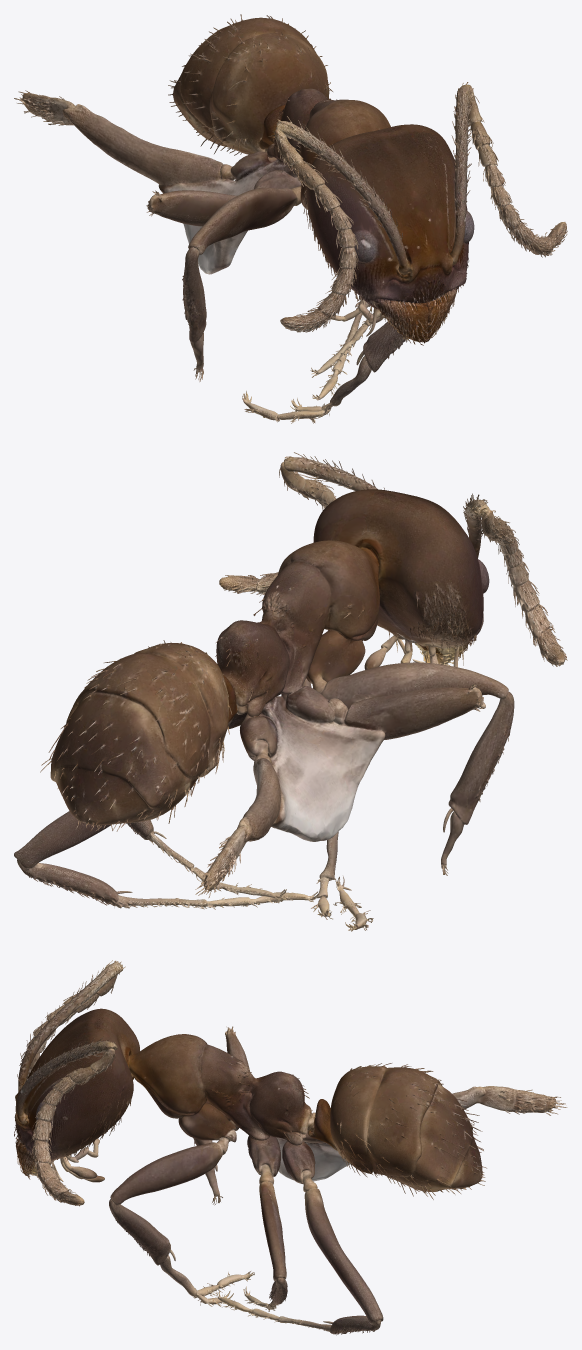
File: esp8.glb
The picture shows the model from 3 angles, top to bottom: view 1: azimuth 30°, elevation 25°; view 2: azimuth 150°, elevation 25°; view 3: azimuth 270°, elevation 25°; orthographic projection. The views are drawn at different scales.
Bounding box in the file's own units: 1.14 × 1.15 × 1.85.
1 material, 1 textured.
